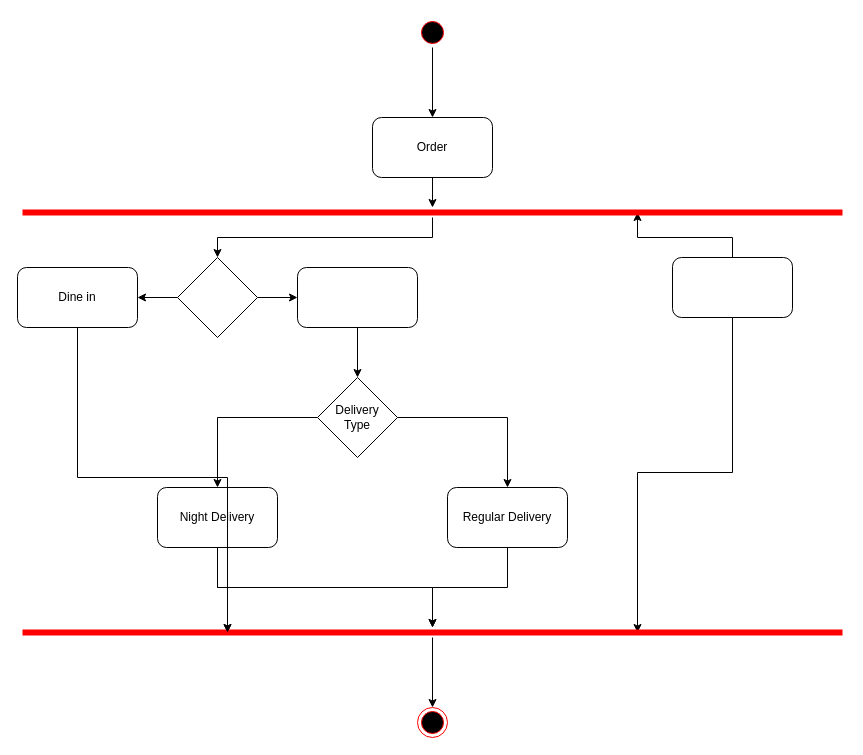
This 863x755 diagram has some shape labels left out. The shapes that lost their labels are listed below. From the top down, each one's box as (x1, y1, x2, y2) in pixels, then its label:
(176, 256, 258, 338): Where to eat?
(296, 266, 418, 328): Delivery
(672, 256, 792, 318): Bill
